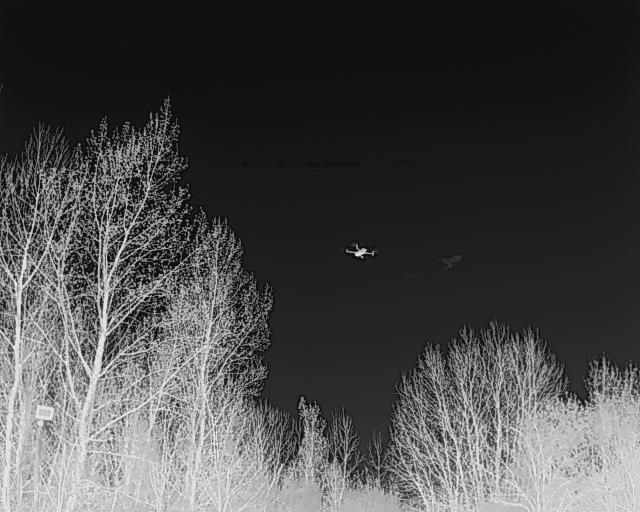drone: (338, 239, 379, 266)
